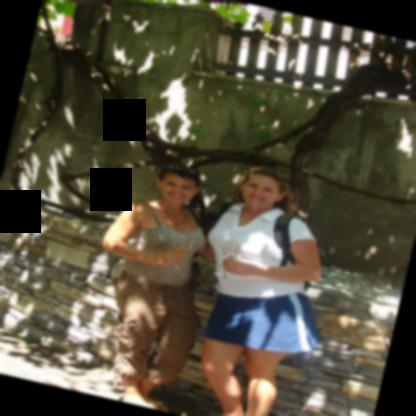backpack: (211, 196, 296, 267)
